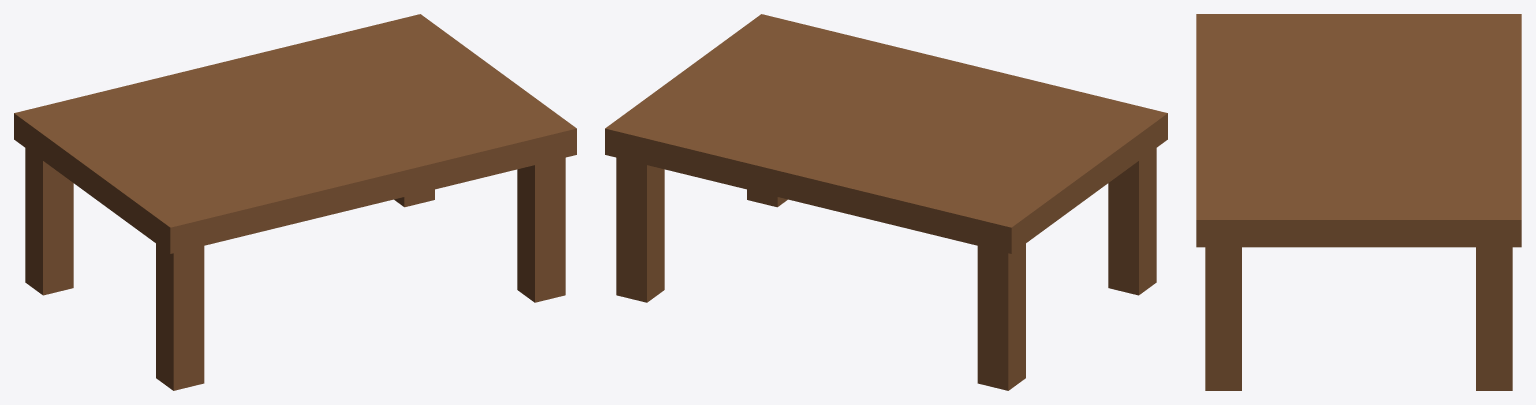
Rendered from BigTable.fbx.
3 views of the same model, side by side, from view 1: azimuth 30°, elevation 25°; view 2: azimuth 150°, elevation 25°; view 3: azimuth 270°, elevation 25° (orthographic). The views are drawn at different scales.
Visible parts, largest first — view 1: Cube.001; view 2: Cube.001; view 3: Cube.001.
Part boxes in pixels (<box>): Cube.001: <box>14,14,576,390</box>; Cube.001: <box>605,14,1167,390</box>; Cube.001: <box>1196,14,1521,390</box>.
Bounding box in the file's own units: 300 × 119 × 200.
